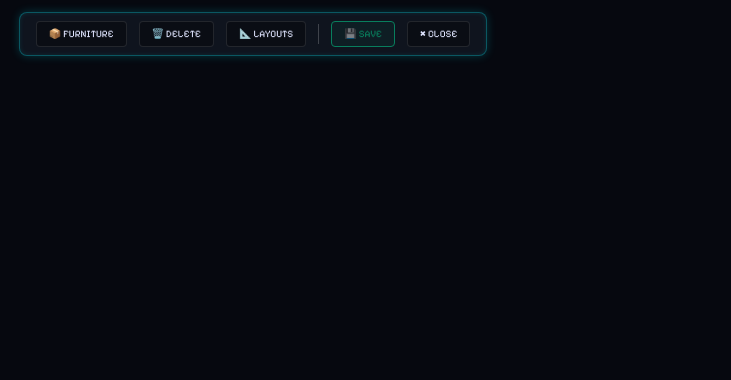
Scenario: LayoutEditor layout creation recovery › preserves the entered name and shows the store warning after a failed create
The width and height of the screenshot is (731, 380).
Click the button titled "Layout manager" at (266, 34), box top-left (226, 21), bottom-right (306, 47)
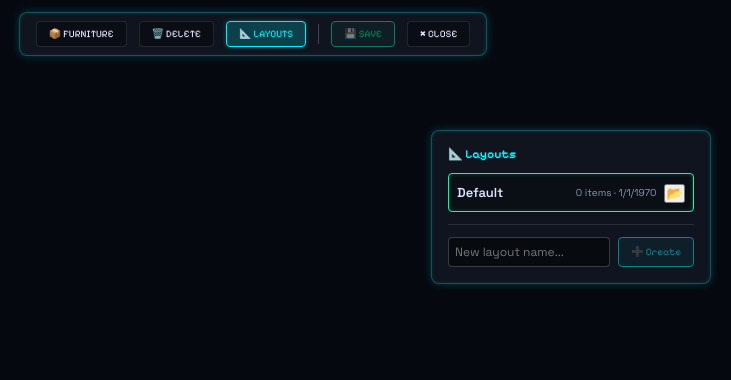
Type "Overflow recovery" into the field with placeholder "New layout name..." at (529, 252), box top-left (448, 237), bottom-right (610, 267)
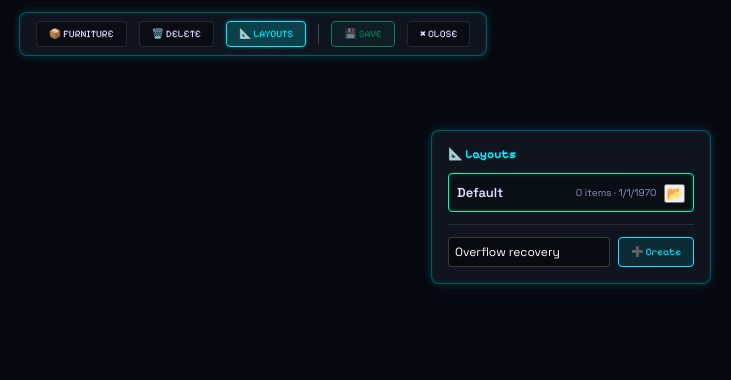
Submit the form with placeholder "New layout name...", box top-left (448, 224), bottom-right (694, 267)
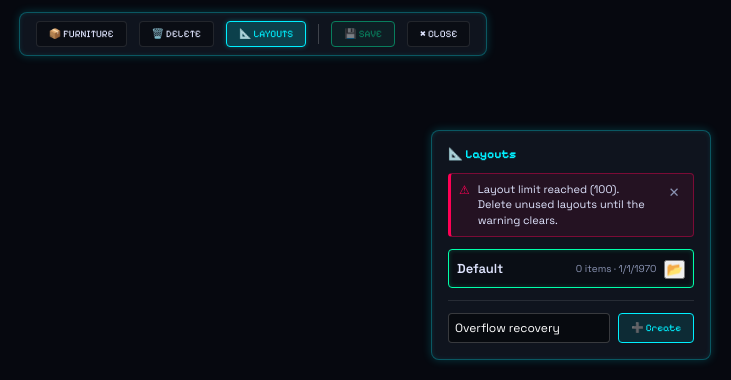
Result: the 2nd message shows "Layout limit reached (100). Delete unused layouts until the warning clears." at top-left (478, 182), bottom-right (645, 227)
